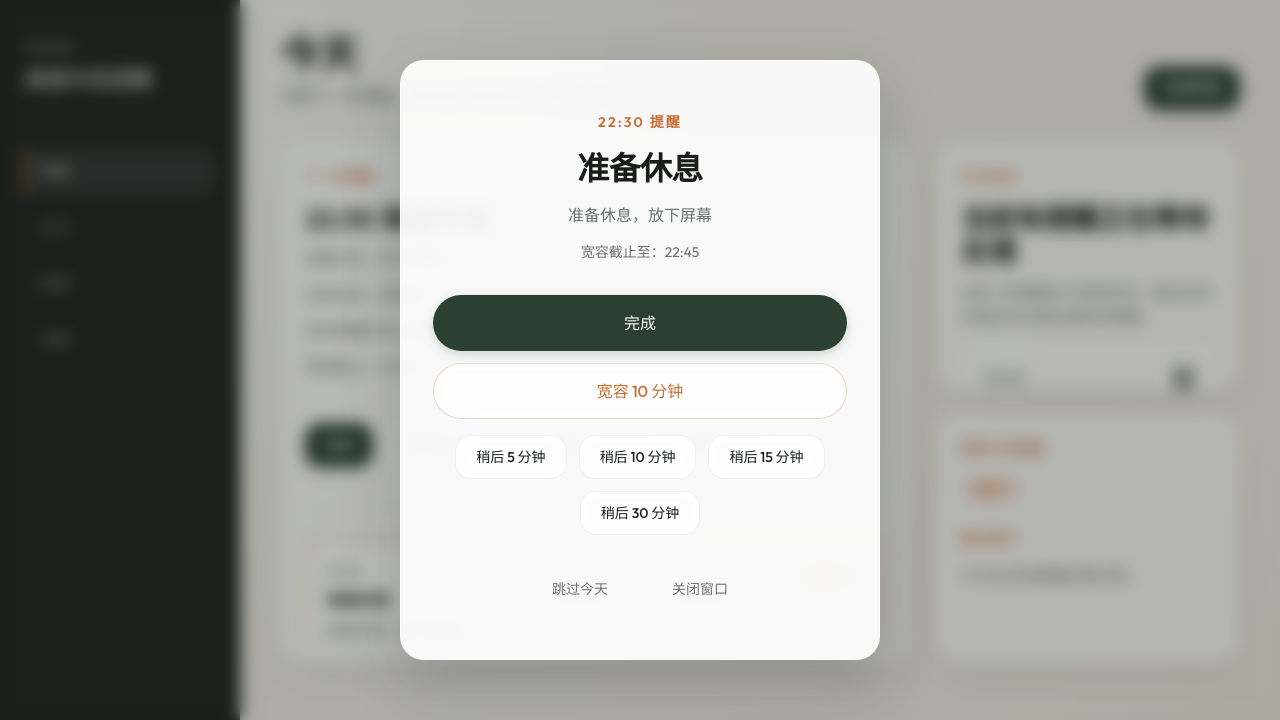
Test: App › closes the reminder overlay after completing the reminder
Expected: the element named "触发提醒" is shown, [400,60,880,660]
Click the button "完成" at (640, 323), box [433,295,847,351]
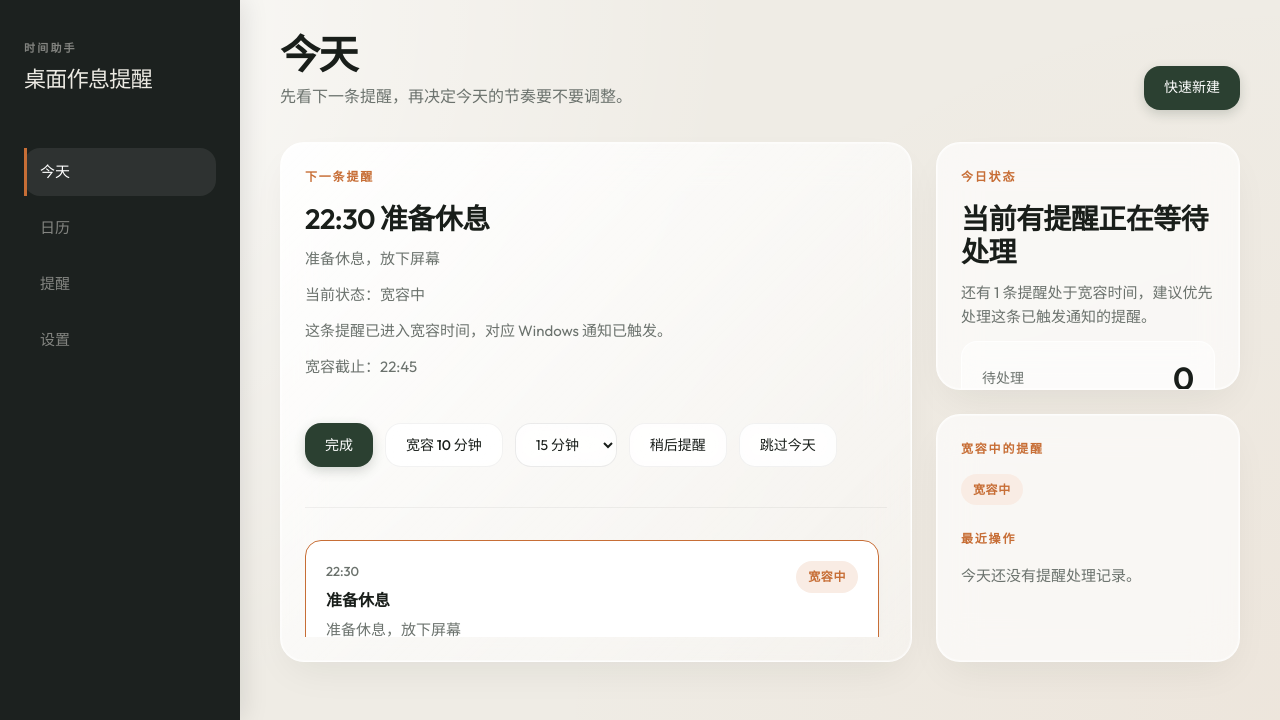
Expected: the field labelled "触发提醒" is gone
